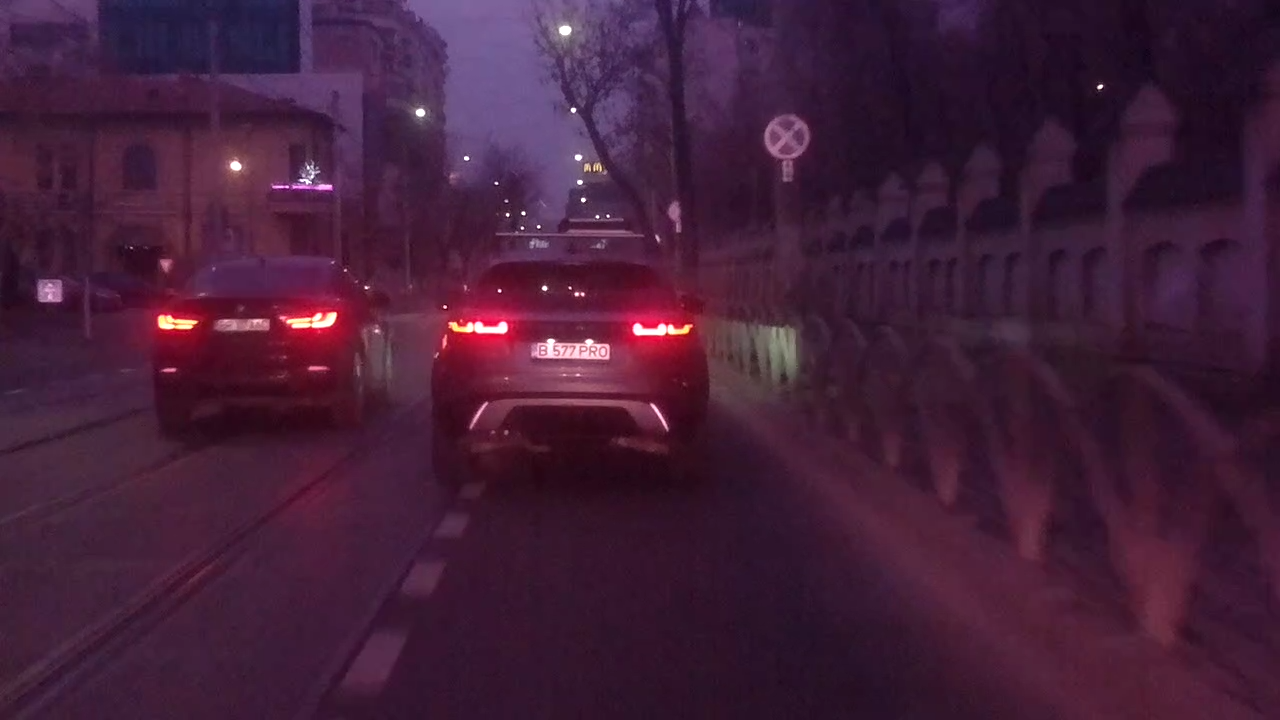license-plate: (530, 340, 613, 361)
